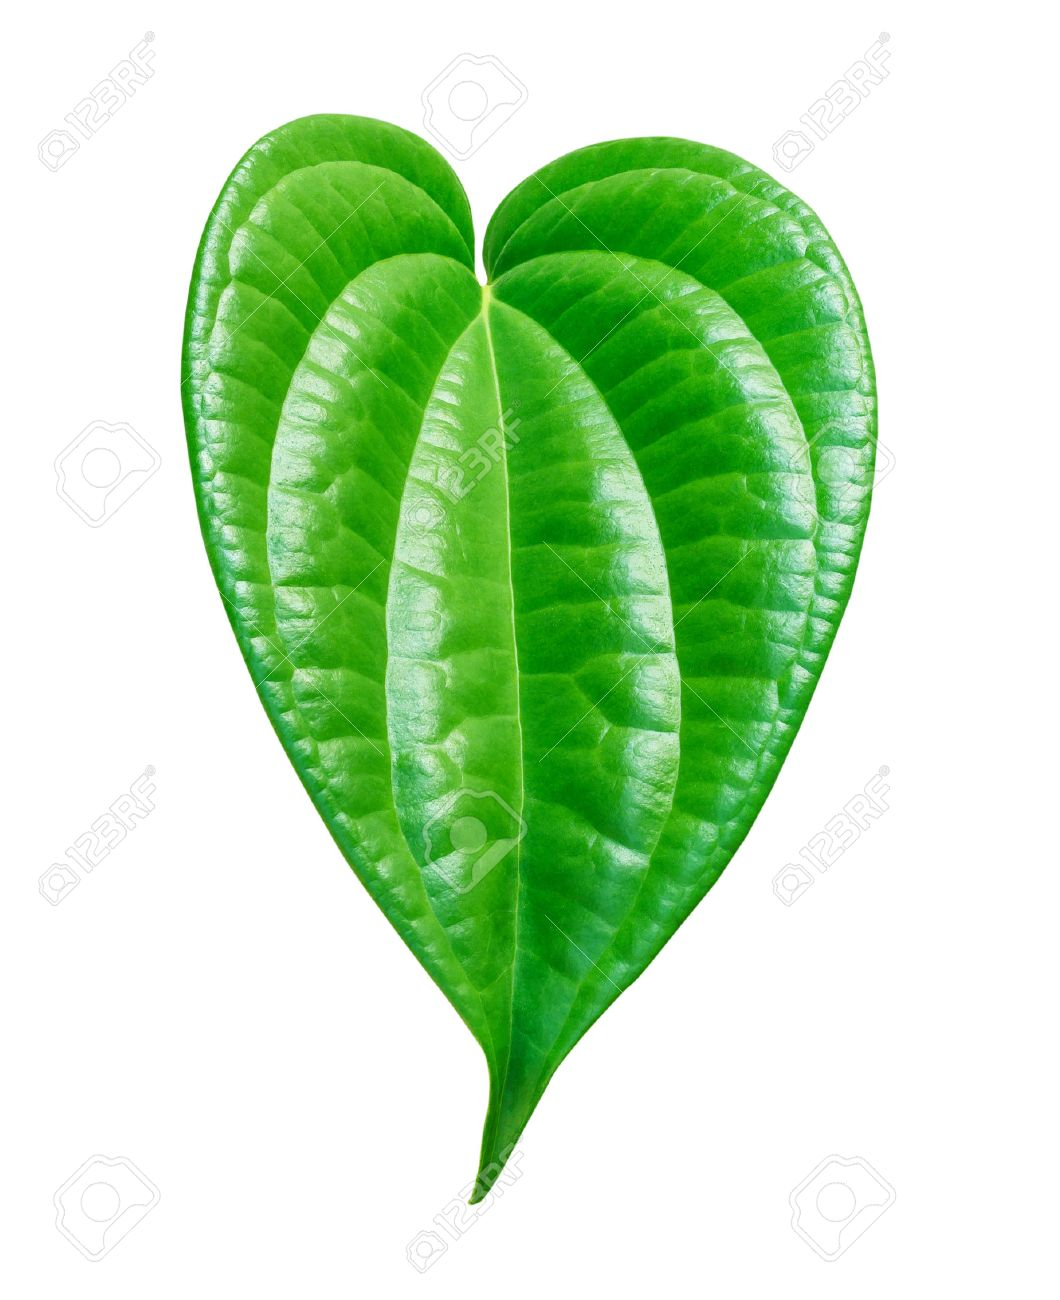healthy: (191, 79, 912, 1181)
